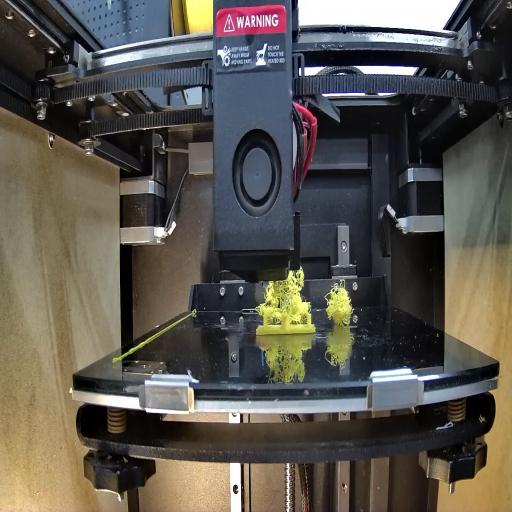spaghetti: (258, 266, 312, 322), (325, 278, 355, 326)
